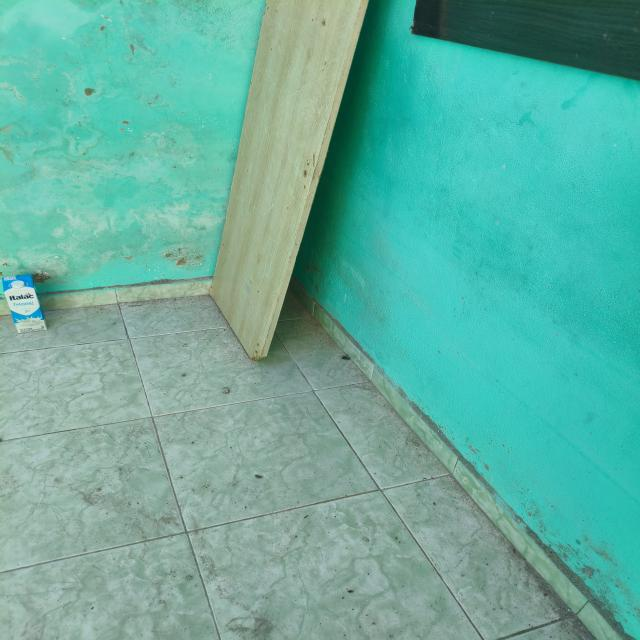Caixa de Leite: (2, 275, 49, 333)
